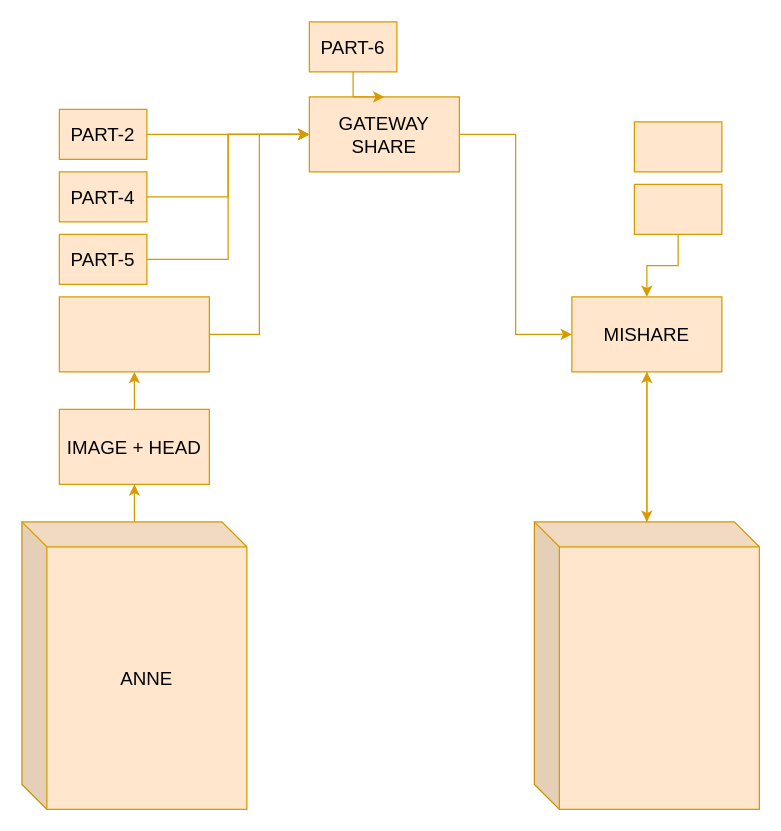
The diagram is 781 pixels wide and 831 high, and some of its shapes have lost their labels. Here are the shapes that lost their labels. From the top down, the box of each, then its label:
(633, 121, 722, 172): PART-1
(633, 183, 722, 234): PART-3
(58, 296, 209, 372): SHAREON
(533, 521, 759, 809): PETER
